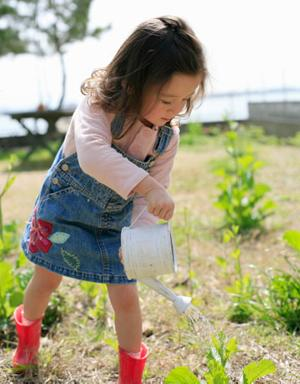person: (14, 14, 208, 383)
